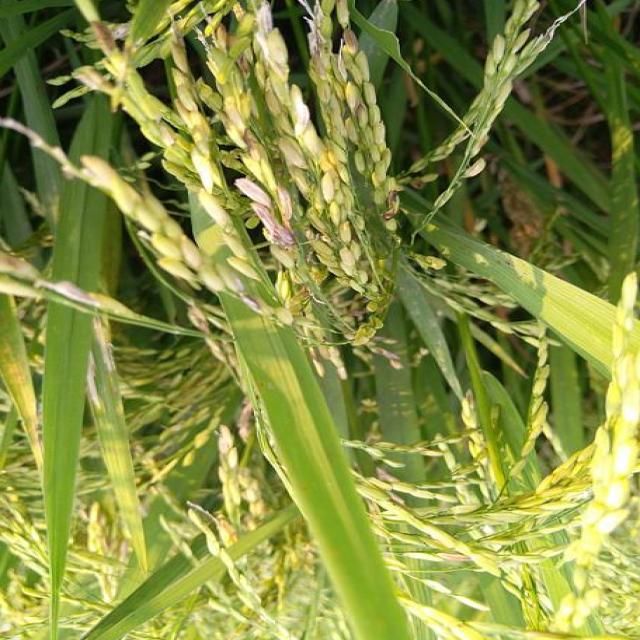Panicle Blight: (233, 172, 291, 248), (34, 279, 98, 306), (72, 64, 116, 93), (215, 510, 244, 549), (232, 275, 261, 313), (276, 137, 307, 168), (366, 344, 404, 369), (272, 185, 293, 226), (429, 548, 476, 566), (91, 20, 114, 56), (170, 30, 189, 73), (0, 251, 29, 275), (213, 423, 234, 456), (382, 189, 401, 223), (469, 134, 491, 159), (243, 128, 260, 159), (462, 158, 487, 178), (342, 27, 358, 56), (216, 24, 229, 51), (293, 284, 310, 301), (237, 57, 250, 77), (372, 335, 400, 344), (356, 104, 366, 123)
